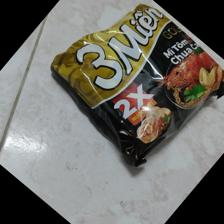3mien: (50, 3, 224, 169)
